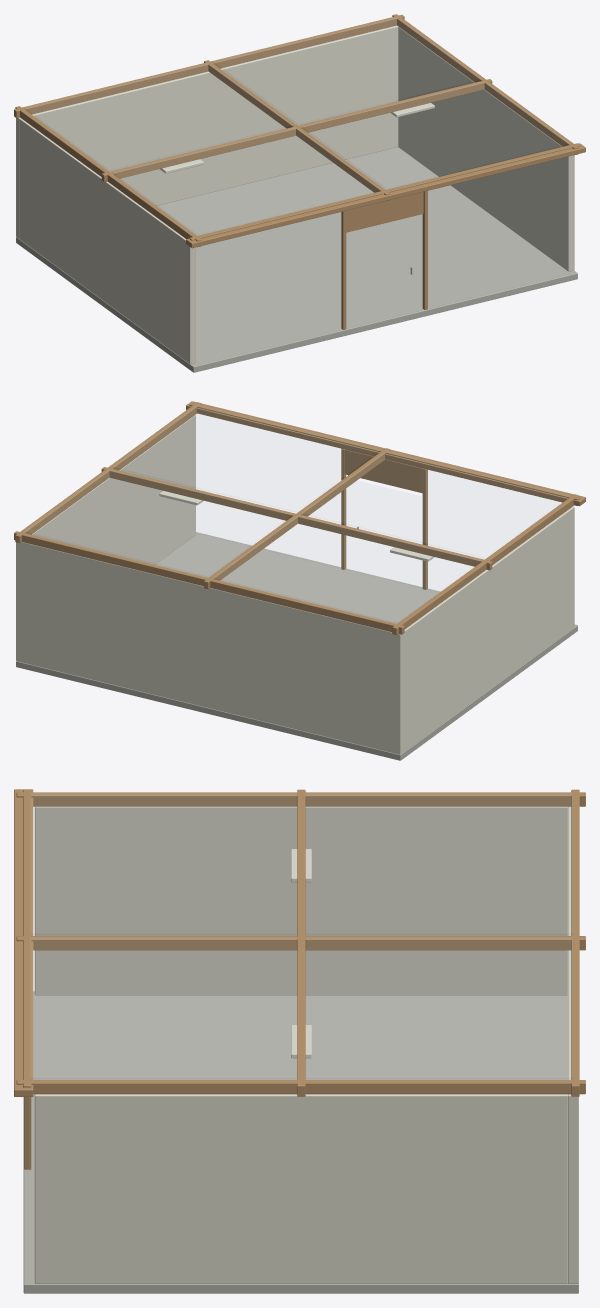
Rendered from beekeeping-and-honey-farm-honey-room-building-85876302__30744.glb.
The picture shows the model from 3 angles, top to bottom: view 1: azimuth 30°, elevation 25°; view 2: azimuth 150°, elevation 25°; view 3: azimuth 270°, elevation 25°; orthographic projection. The views are drawn at different scales.
Parts seen in each view (by area): view 1: honey-room-building; view 2: honey-room-building; view 3: honey-room-building.
Boxes of the visible parts, box(x1,y1,x2,y2) form: honey-room-building: box(14, 14, 585, 372); honey-room-building: box(14, 401, 585, 760); honey-room-building: box(14, 789, 585, 1293).
Size of the model in its own units: 10.25 by 3.38 by 8.24.
